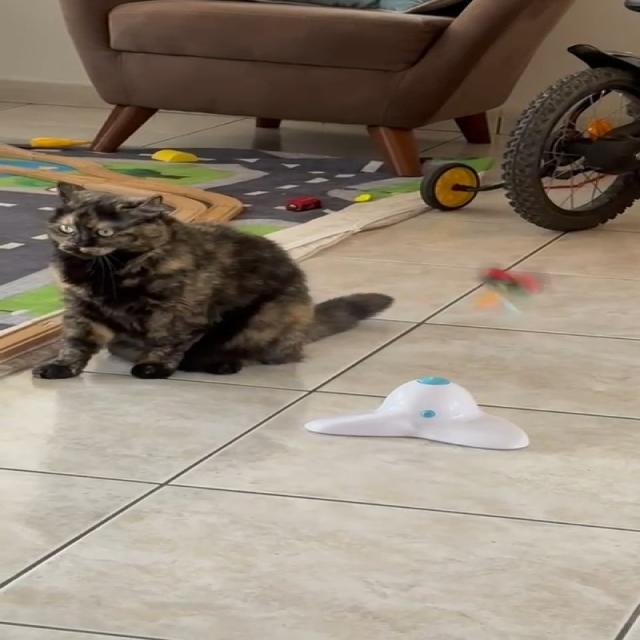authorized: (31, 180, 393, 380)
